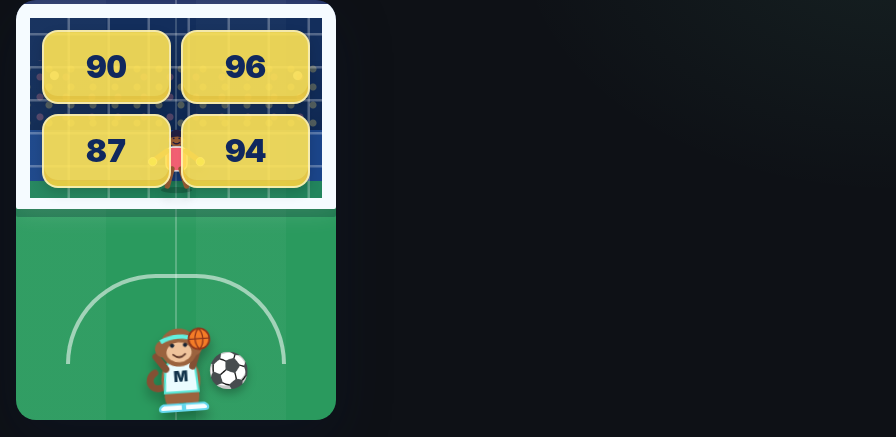
Test case: SoccerGoalCourt › disables the other targets mid-kick, and shows the goal/save result banner
Click the button with test id "sgc-target-90". click: (106, 67)
box: [42, 30, 171, 104]
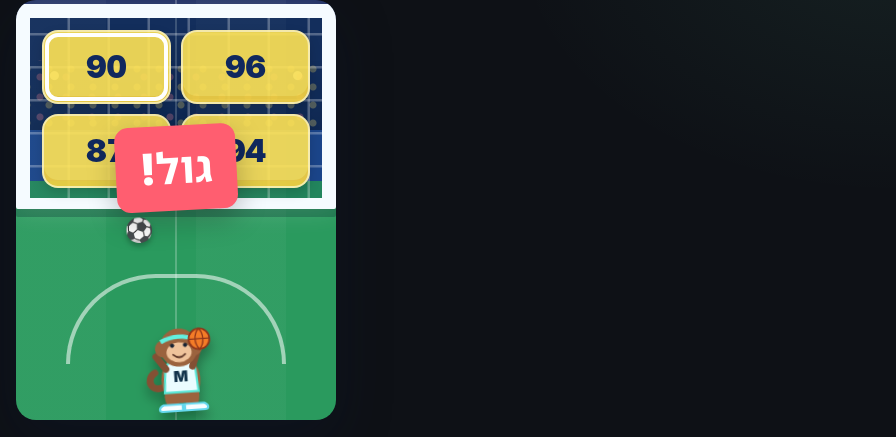
Expected: the button with test id "sgc-target-96" is disabled, [181, 30, 310, 104]
Result: the message "גול!" is shown at [113, 122, 238, 214]
